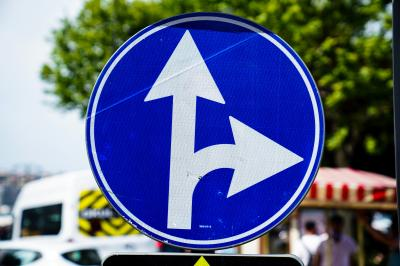ileri_veya_saga: (85, 12, 326, 254)
